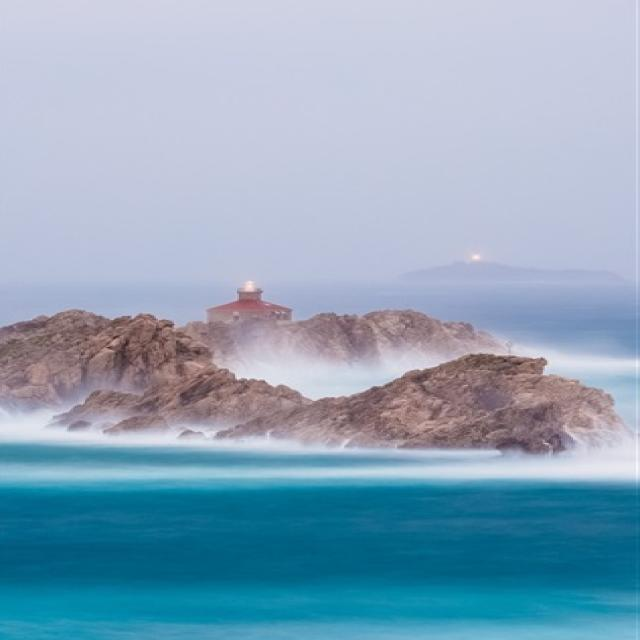island: (0, 277, 618, 460)
